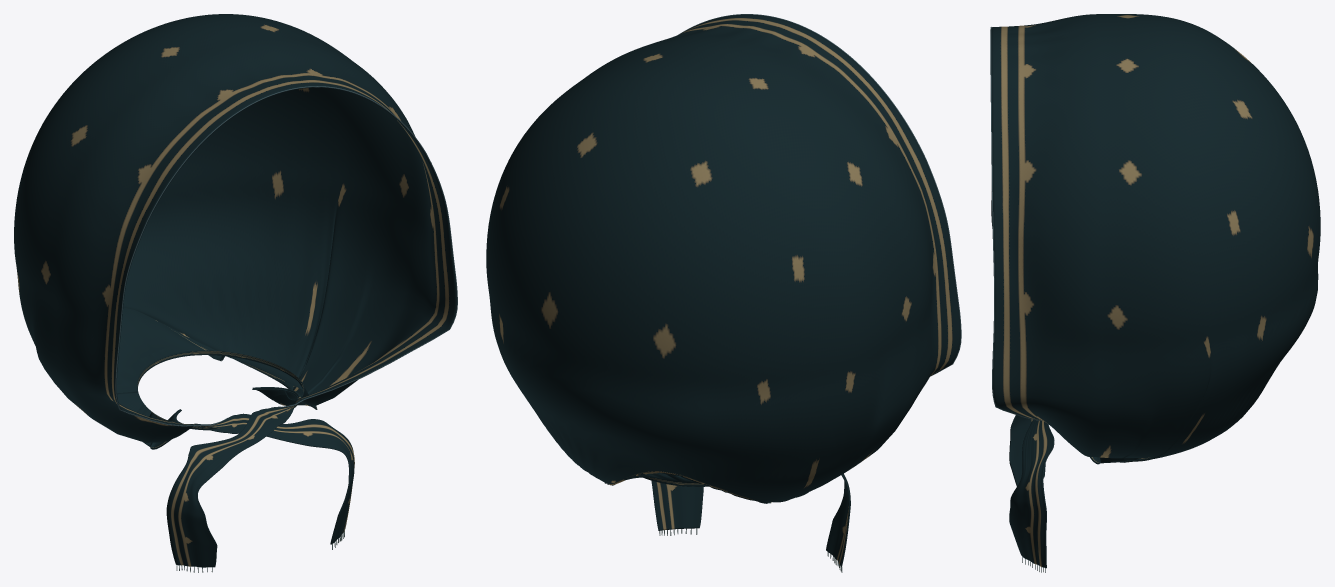
Rendered from Feminine-Feminine-ponytail-jersey-pashmina251-headgear-41885bef.glb.
3 renders of one model, left to right at view 1: azimuth 30°, elevation 25°; view 2: azimuth 150°, elevation 25°; view 3: azimuth 270°, elevation 25°, orthographic. The views are drawn at different scales.
Parts seen in each view (by area): view 1: 226 headgear / Headwear / continuous woven pashmina239, 226 headgear / Headwear / face edge239; view 2: 226 headgear / Headwear / continuous woven pashmina239, 226 headgear / Headwear / face edge239; view 3: 226 headgear / Headwear / continuous woven pashmina239, 226 headgear / Headwear / face edge239.
Part boxes in pixels (<box>): 226 headgear / Headwear / continuous woven pashmina239: <box>14,14,457,567</box>; 226 headgear / Headwear / face edge239: <box>115,86,457,426</box>; 226 headgear / Headwear / continuous woven pashmina239: <box>486,14,960,566</box>; 226 headgear / Headwear / face edge239: <box>678,14,961,376</box>; 226 headgear / Headwear / continuous woven pashmina239: <box>991,14,1320,568</box>; 226 headgear / Headwear / face edge239: <box>990,27,1042,420</box>.
Bounding box in the file's own units: 1.07 × 1.4 × 0.8393.
3 materials, 1 textured.
